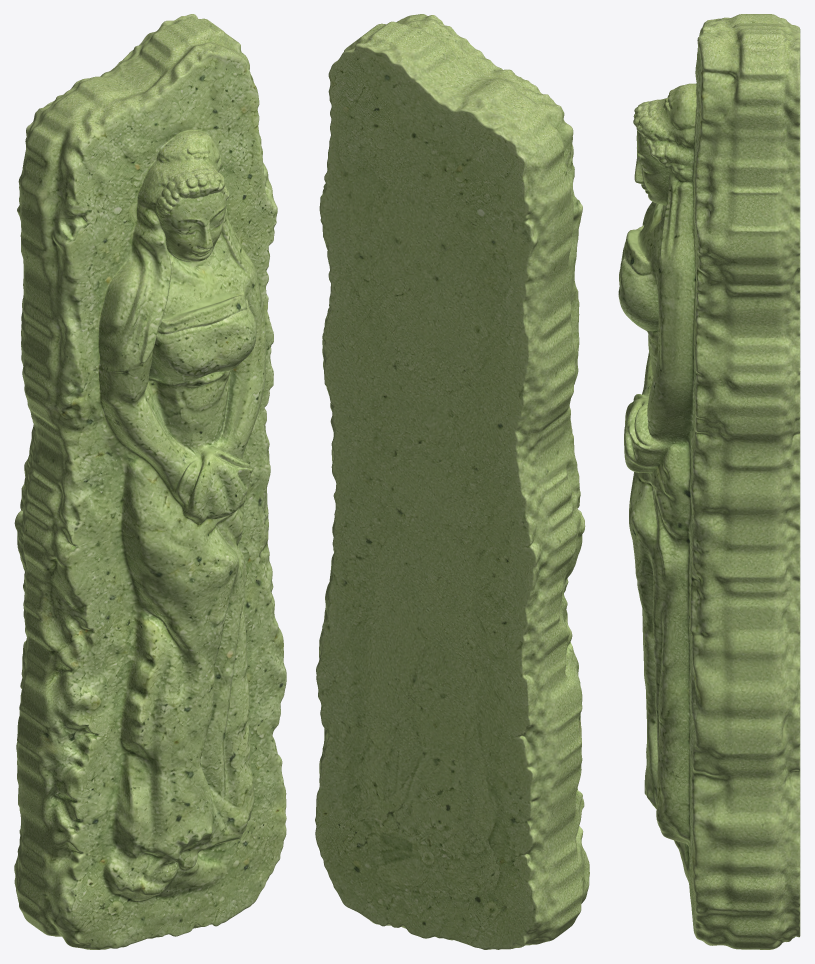
Rendered from original-tanitab.glb.
The picture shows the model from 3 angles, left to right: view 1: azimuth 30°, elevation 25°; view 2: azimuth 150°, elevation 25°; view 3: azimuth 270°, elevation 25°; orthographic projection. The views are drawn at different scales.
Visible parts, largest first — view 1: Mesh_0; view 2: Mesh_0; view 3: Mesh_0.
Part boxes in pixels (x1,y1,x2,y2): Mesh_0: [14, 14, 286, 949]; Mesh_0: [315, 14, 589, 949]; Mesh_0: [618, 14, 800, 949].
Size of the model in its own units: 0.5413 by 1.9 by 0.343.
1 material, 1 textured.
